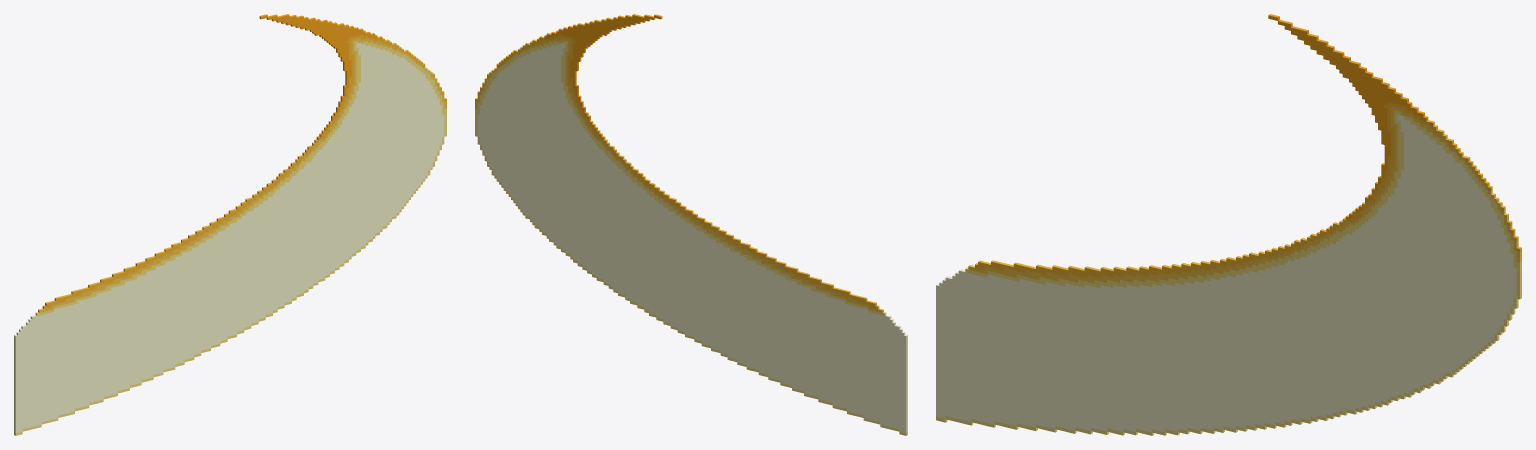
Rendered from Fight_743_2_03_fx.obj.
3 views of the same model, side by side, from view 1: azimuth 30°, elevation 25°; view 2: azimuth 150°, elevation 25°; view 3: azimuth 330°, elevation 25° (orthographic). The views are drawn at different scales.
Size of the model in its own units: 18.1 by 14.4 by 0.1.
1 material, 1 textured.
